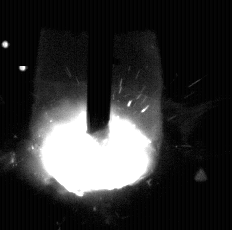arame: (87, 0, 111, 132)
poca: (31, 0, 163, 230)
